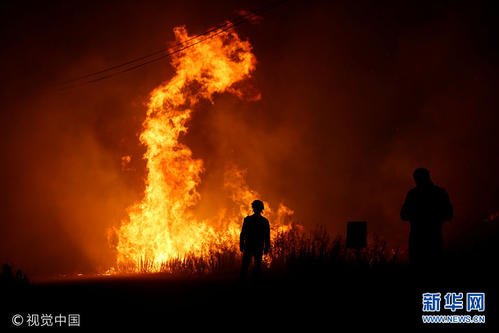fire: (104, 24, 251, 267), (277, 207, 294, 235)
